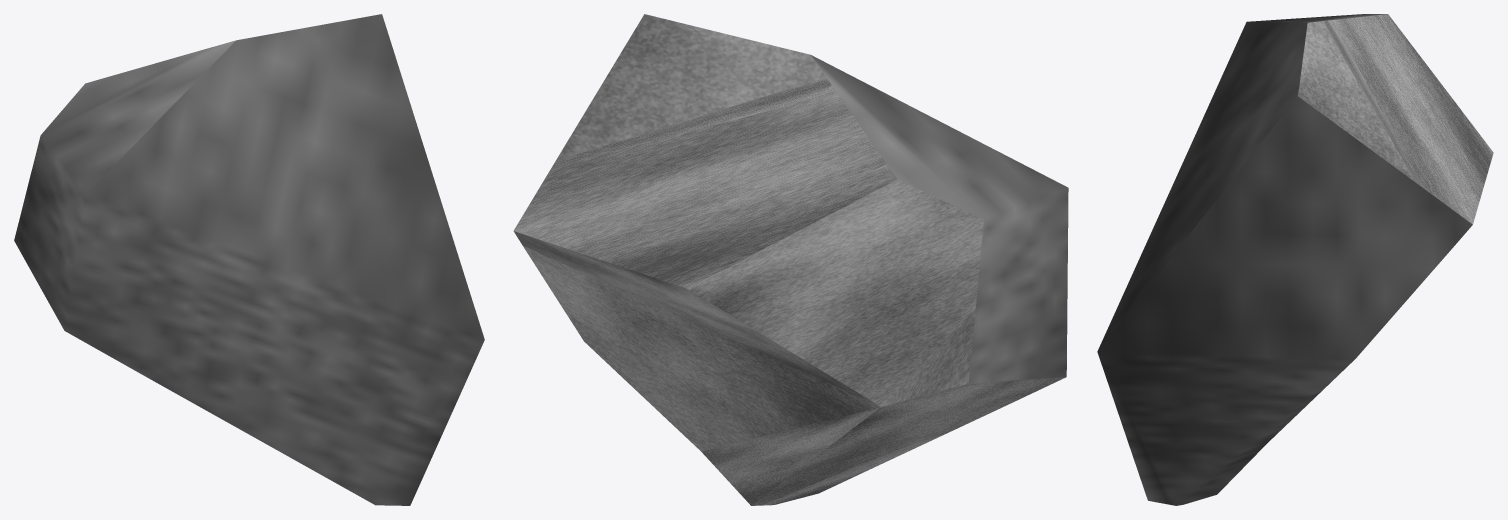
Rendered from leg_3_cell.fbx.
The picture shows the model from 3 angles, left to right: view 1: azimuth 30°, elevation 25°; view 2: azimuth 150°, elevation 25°; view 3: azimuth 270°, elevation 25°; orthographic projection. The views are drawn at different scales.
Parts seen in each view (by area): view 1: leg_3_cell; view 2: leg_3_cell; view 3: leg_3_cell.
Boxes of the visible parts, x1,y1,x2,y2 form: leg_3_cell: (14,14,484,505); leg_3_cell: (513,14,1068,505); leg_3_cell: (1097,14,1493,505).
Size of the model in its own units: 29.36 by 34.83 by 28.54.
